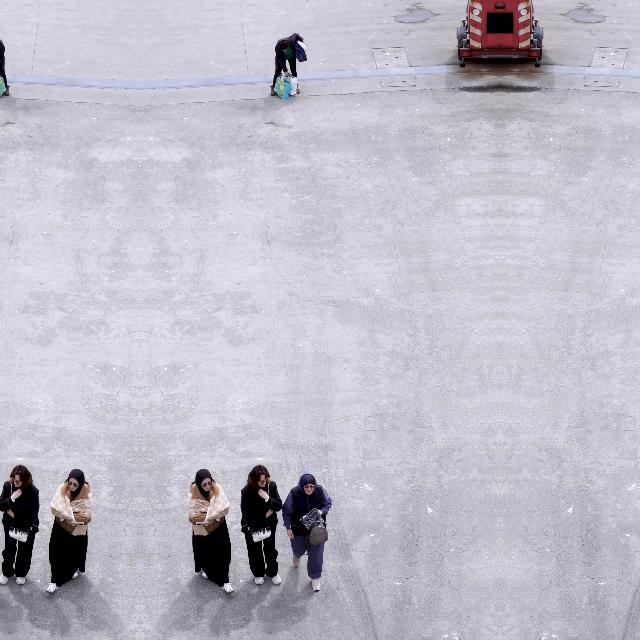person: (282, 472, 332, 592), (188, 468, 234, 594), (46, 468, 92, 594), (240, 464, 284, 586), (0, 464, 39, 586), (270, 33, 308, 97), (0, 33, 9, 97)
